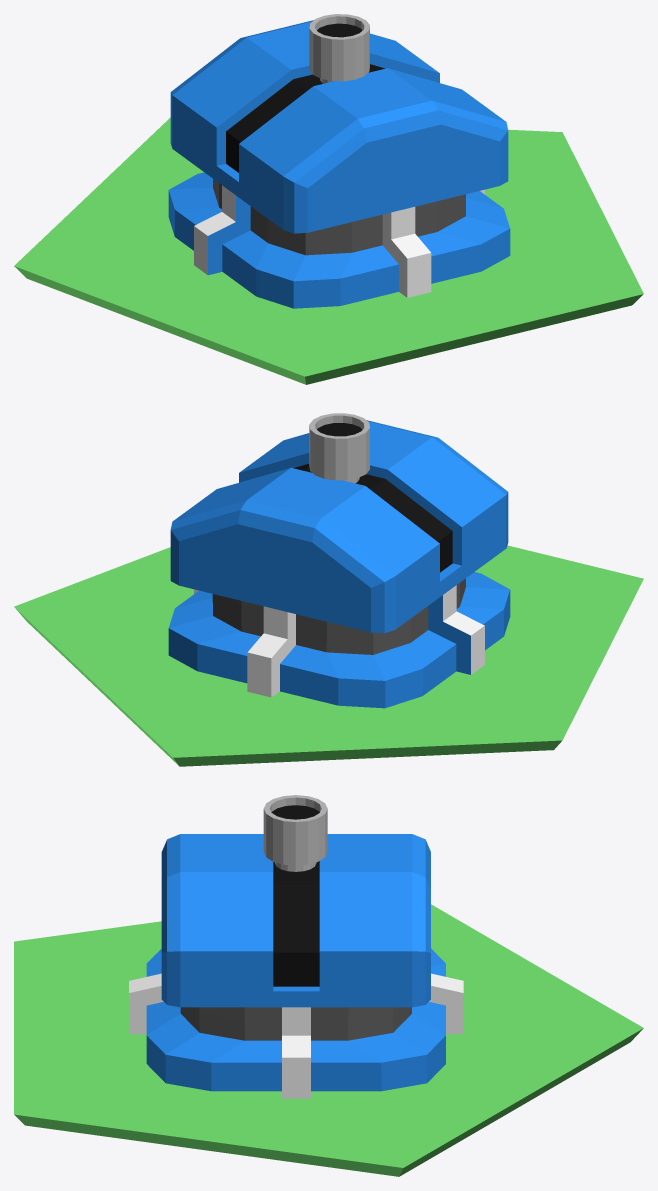
Rendered from turret_2.fbx.
3 renders of one model, top to bottom at view 1: azimuth 30°, elevation 25°; view 2: azimuth 150°, elevation 25°; view 3: azimuth 270°, elevation 25°, orthographic. The views are drawn at different scales.
Parts seen in each view (by area): view 1: Cube, DodecagonVideTuile.001, Cylinder; view 2: Cube, DodecagonVideTuile.001, Cylinder; view 3: Cube, DodecagonVideTuile.001, Cylinder.
Part boxes in pixels (left/top/right/bottom): Cube: left=168, top=20, right=510, bottom=308; DodecagonVideTuile.001: left=14, top=117, right=643, bottom=384; Cylinder: left=309, top=14, right=369, bottom=83; Cube: left=168, top=420, right=510, bottom=708; DodecagonVideTuile.001: left=14, top=545, right=643, bottom=766; Cylinder: left=309, top=413, right=369, bottom=483; Cube: left=129, top=834, right=463, bottom=1098; DodecagonVideTuile.001: left=14, top=904, right=643, bottom=1176; Cylinder: left=263, top=795, right=327, bottom=871.
Size of the model in its own units: 111 by 43.12 by 105.
